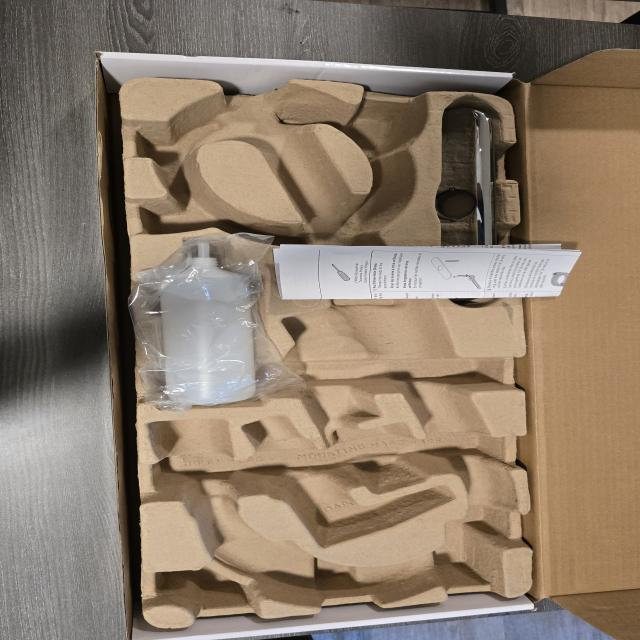1m: (148, 83, 510, 607)
2m: (242, 415, 454, 547)
3: (156, 241, 255, 406)
4o: (434, 108, 496, 304)
5m: (352, 112, 407, 155)
6m: (136, 107, 223, 168)
7m: (137, 175, 260, 232)
8: (273, 243, 579, 301)
